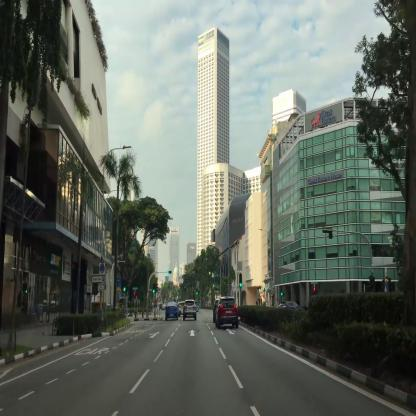green_traffic_light: (239, 273, 242, 286), (124, 278, 126, 291), (152, 283, 154, 292), (167, 270, 171, 273), (196, 288, 197, 294)
